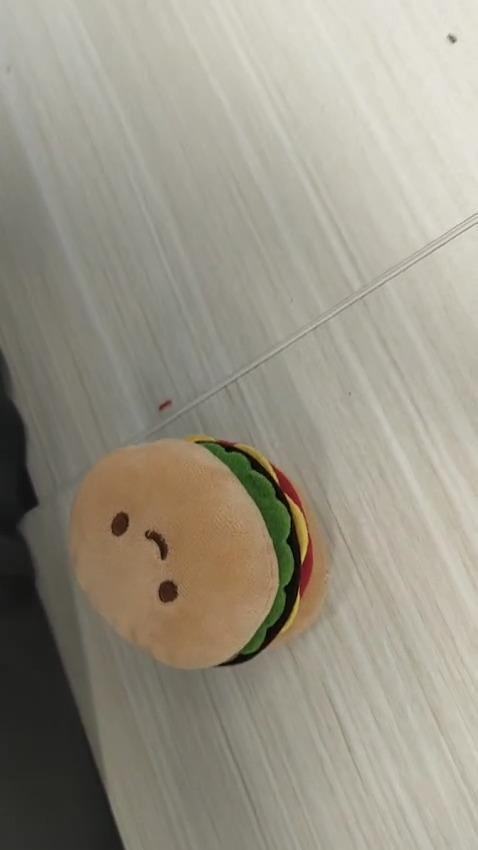hamburger: (66, 436, 331, 677)
